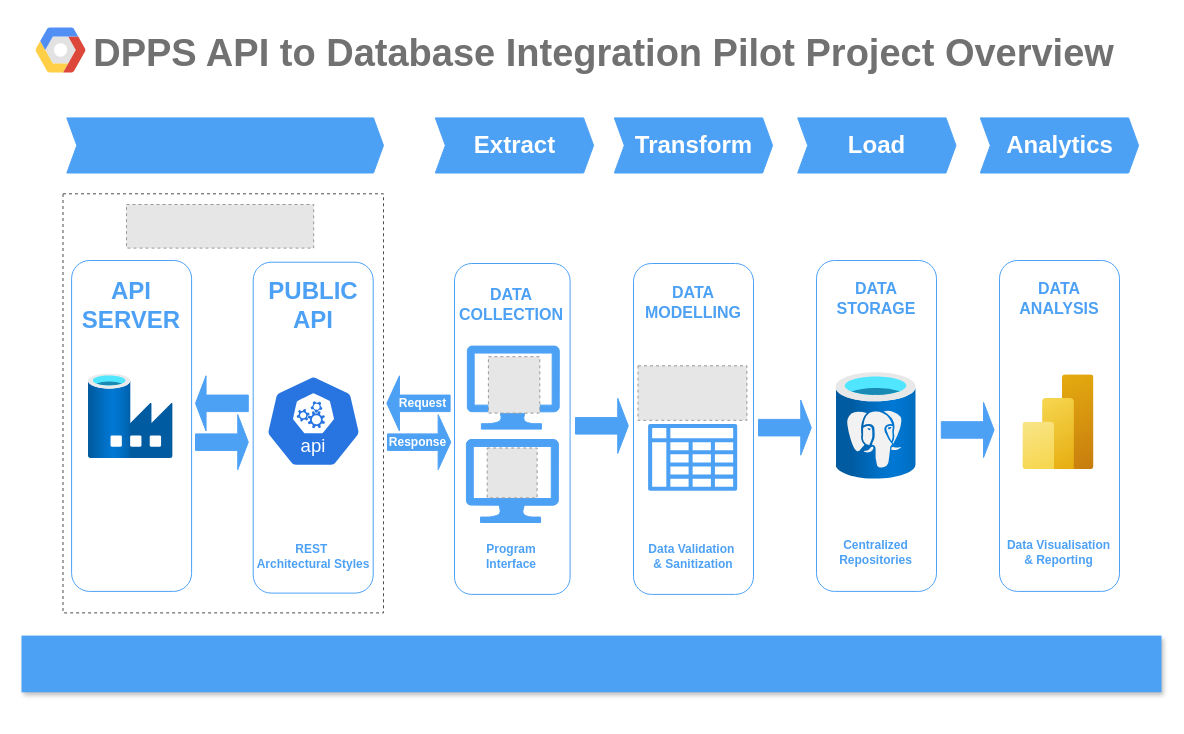
Some shapes in this 1184 by 734 pixel diagram are drawn without their labels. Grey dashed boxes stand in for pictures. Here are the shapes that lost their labels. From the top down, the centre of each, then its label:
At point 225,145: "Data Sources".
At point 592,665: "Architecture: Real-Time Data Access (Extract . Transform . Load)".
